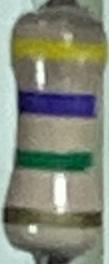Blue: (16, 88, 98, 118)
Green: (14, 148, 92, 171)
Side-Silver: (3, 206, 104, 228)
Yellow: (11, 37, 106, 65)
